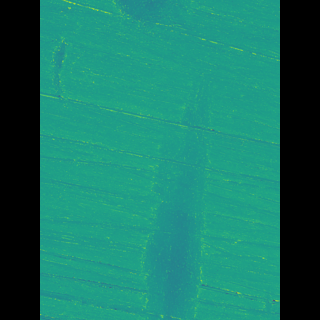Loch: (140, 72, 202, 320)
